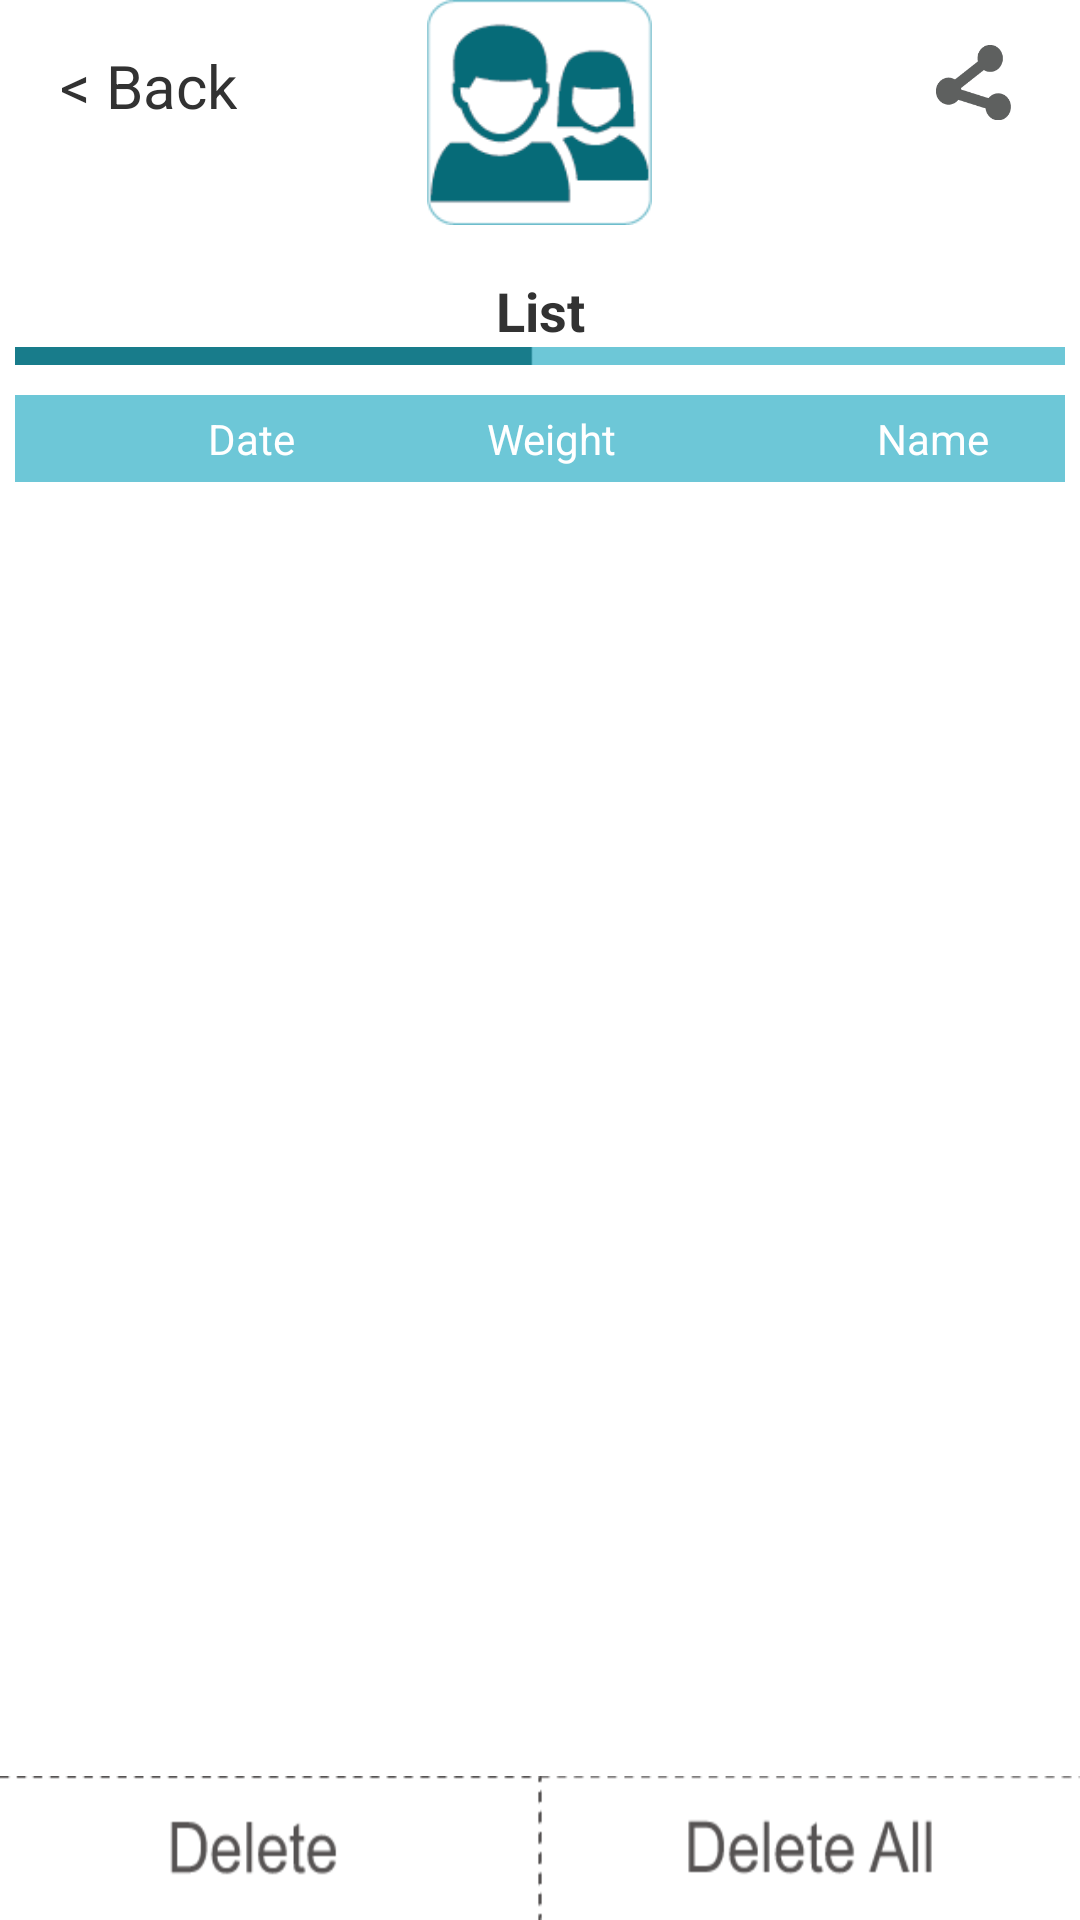

Named icons in this screenshot (1080px×1920px) and their bounding boxes, (x1, y1, x2, y2):
shar: (936, 45, 1011, 120)
user pic: (427, 0, 652, 225)
